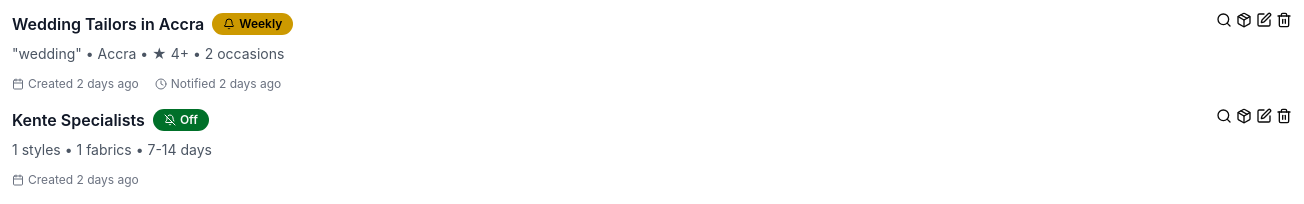
Test: SavedSearches › Check Matches Action › should display match count badge after checking
What coordinates should you click on to do the following:
click the button titled "Check for new matches" in the row of "Weekly"
I would click on:
 (1244, 20)
Its box is [1236, 12, 1252, 28].
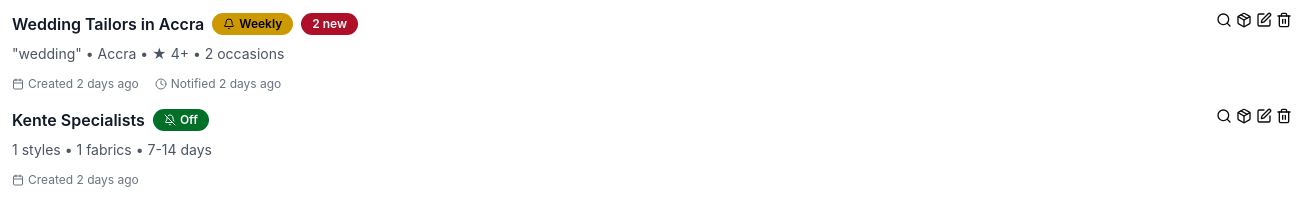
Expected: the text "2 new" is shown, [301, 13, 358, 35]
